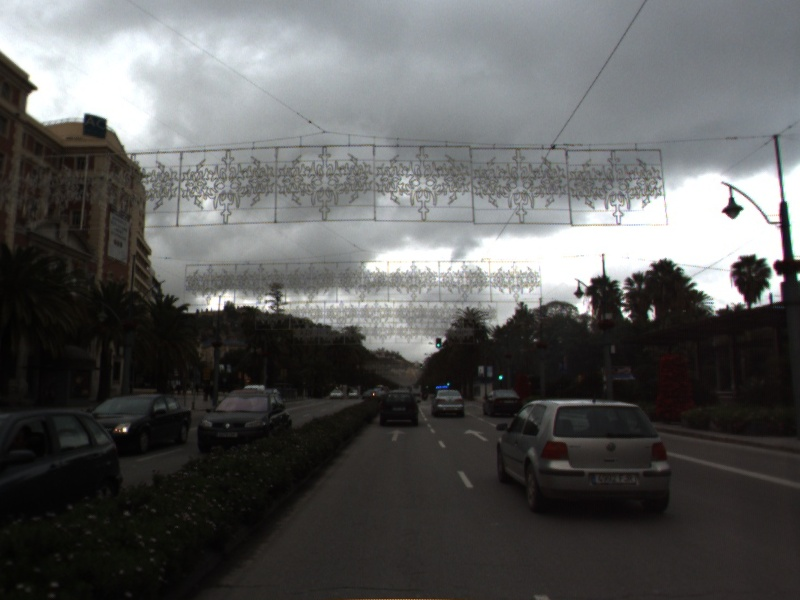STRAIGHT: (462, 427, 491, 443), (384, 428, 408, 443)
